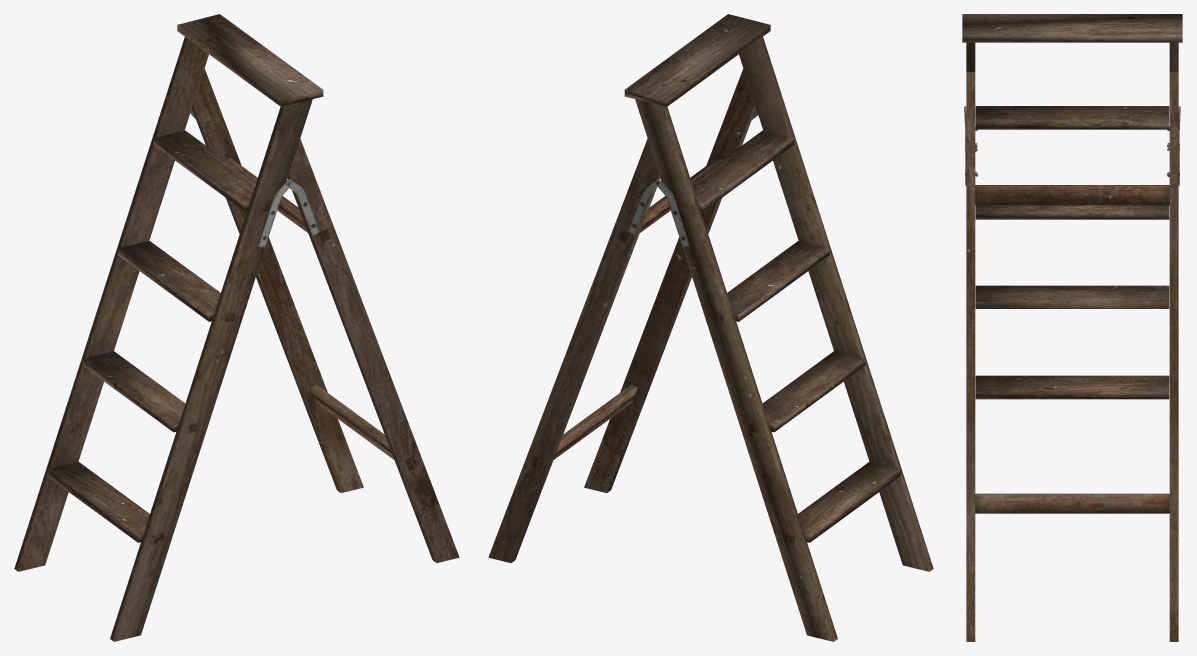
File: wooden_ladder.glb
3 renders of one model, left to right at view 1: azimuth 30°, elevation 25°; view 2: azimuth 150°, elevation 25°; view 3: azimuth 270°, elevation 25°, orthographic. The views are drawn at different scales.
Parts seen in each view (by area): view 1: wooden_ladder; view 2: wooden_ladder; view 3: wooden_ladder.
Part boxes in pixels (box(x1,y1,x2,y2)): wooden_ladder: box(14, 14, 459, 641); wooden_ladder: box(488, 14, 933, 641); wooden_ladder: box(962, 14, 1182, 641).
Bounding box in the file's own units: 0.9592 × 1.33 × 0.4985.
1 material, 1 textured.
